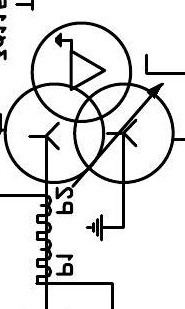11522_tx_ynyn0d1: (2, 20, 176, 185)
